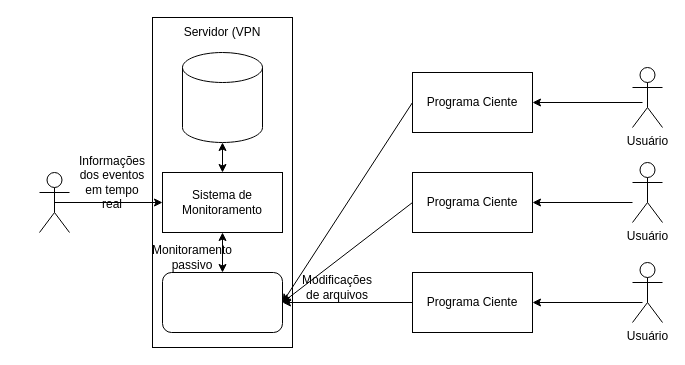
This 685x365 diagram has some shape labels left out. The shapes that lost their labels are listed below. From the top down, each one's centre as x and y in pixels, then its label:
point 222,97: PostgreSQL
point 54,202: Administrador
point 222,302: Pasta Monitorada
